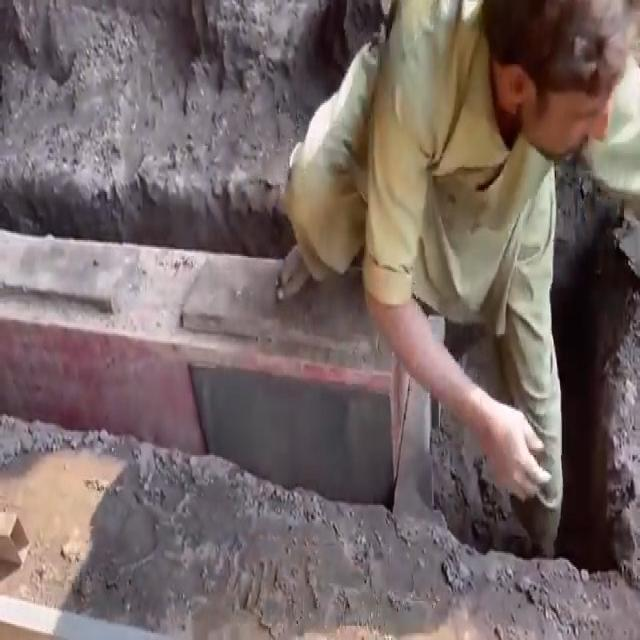dress: (292, 3, 640, 554)
